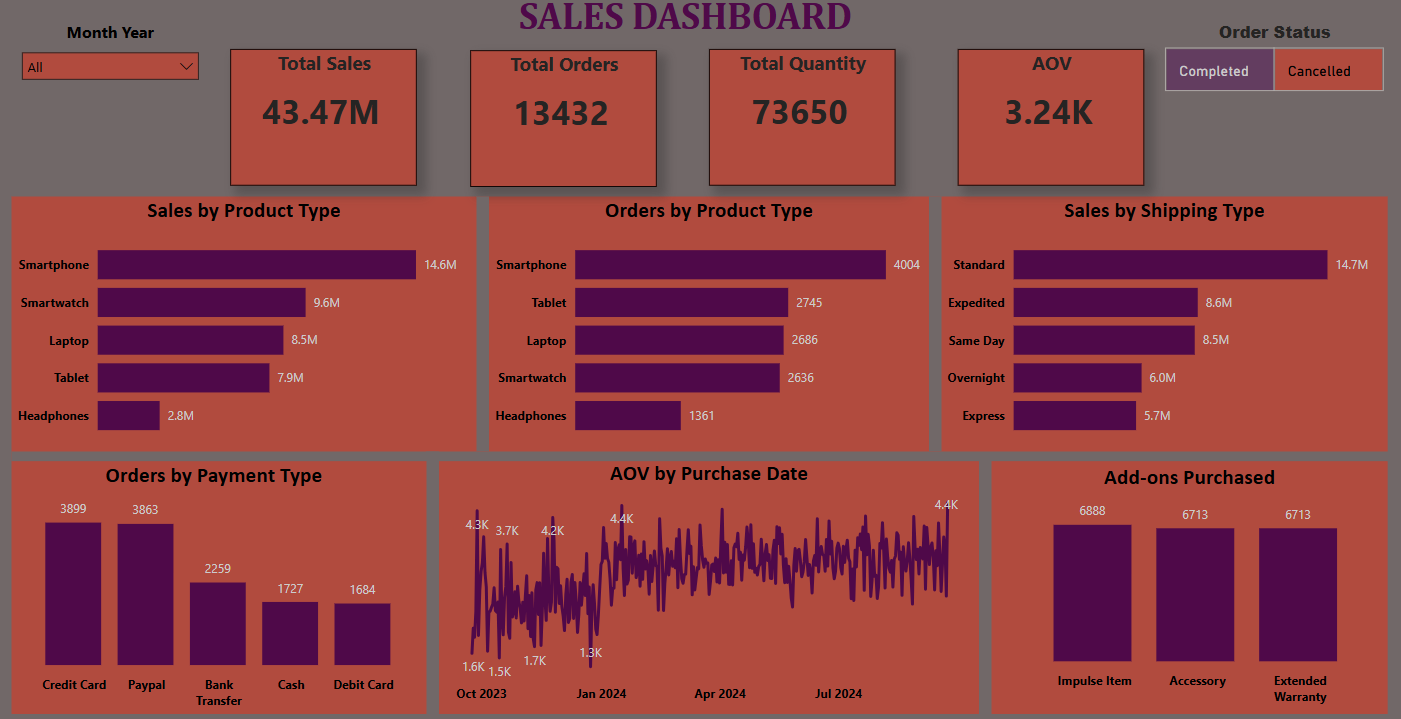

This screenshot's page, from the dashboard's own definition file:
{"tool":"powerbi","page":{"name":" Sales Dashboard","canvas":[1400,730],"ordinal":1},"visuals":[{"type":"shape","box":[12.4,206.5,1369.7,515],"z":0},{"type":"shape","box":[925.6,206.5,12.4,253.8],"z":1000},{"type":"shape","box":[425.5,460.3,12.4,263.7],"z":2000},{"type":"shape","box":[12.4,460.3,1387.1,10],"z":3000},{"type":"cardVisual","fields":{"Data":["Electronic sales cleaned data.Total Sales"]},"box":[230.1,59.7,185.4,135.6],"z":4000},{"type":"barChart","fields":{"Category":["Electronic sales cleaned data.Product Type"],"Y":["Electronic sales cleaned data.Total Sales"]},"box":[12.4,206.5,462.8,253.8],"z":5000},{"type":"columnChart","fields":{"Category":["Electronic sales cleaned data.Payment Method"],"Y":["CountNonNull(Electronic sales cleaned data.Customer ID)"]},"box":[2.5,470.2,423,253.8],"z":6000},{"type":"barChart","fields":{"Category":["Electronic sales cleaned data.Shipping Type"],"Y":["Electronic sales cleaned data.Total Sales"]},"box":[938,206.5,444.1,253.8],"z":7000},{"type":"cardVisual","fields":{"Data":["Sum(Electronic sales cleaned data.Quantity)"]},"box":[706.6,59.7,185.4,135.6],"z":8000},{"type":"cardVisual","fields":{"Data":["CountNonNull(Electronic sales cleaned data.Customer ID)"]},"box":[468.4,61,185.4,135.6],"z":9000},{"type":"cardVisual","fields":{"Data":["Electronic sales cleaned data.AOV"]},"box":[954.2,59.7,185.4,135.6],"z":10000},{"type":"clusteredBarChart","fields":{"Category":["Electronic sales cleaned data.Product Type"],"Y":["CountNonNull(Electronic sales cleaned data.Customer ID)"]},"box":[487.7,206.5,437.9,253.8],"z":11000},{"type":"columnChart","fields":{"Y":["CountNonNull(Add-ons Table.Customer ID)"],"Category":["Add-ons Table.Add-ons"]},"box":[987.8,472.7,394.4,247.6],"z":12000},{"type":"lineChart","fields":{"Y":["Electronic sales cleaned data.AOV"],"Category":["Electronic sales cleaned data.Purchase Date.Variation.Date Hierarchy.Year"]},"box":[437.9,469,537.4,251.3],"z":13000},{"type":"shape","box":[475.2,206.5,12.4,253.8],"z":14000},{"type":"shape","box":[975.3,464,12.4,258.8],"z":15000},{"type":"textbox","box":[196.6,0,972.8,59.7],"z":16000},{"type":"slicer","title":"Month Year","fields":{"Values":["Electronic sales cleaned data.MONTH YEAR"]},"box":[12.4,31.1,196.6,75.9],"z":17000},{"type":"advancedSlicerVisual","fields":{"Values":["Electronic sales cleaned data.Order Status"]},"box":[1155.7,31.1,227.7,75.9],"z":18000}]}

Visuals, with their boxes in screenshot pixels (x1, y1, x2, y2), scaled from the page's 1400x730 canvas onto the 1401x719 screenshot:
shape: 12/203/1383/711
shape: 926/203/939/453
shape: 426/453/438/713
shape: 12/453/1400/463
cardVisual - Electronic sales cleaned data.Total Sales: 230/59/416/192
barChart - Electronic sales cleaned data.Product Type x Electronic sales cleaned data.Total Sales: 12/203/476/453
columnChart - Electronic sales cleaned data.Payment Method x CountNonNull(Electronic sales cleaned data.Customer ID): 3/463/426/713
barChart - Electronic sales cleaned data.Shipping Type x Electronic sales cleaned data.Total Sales: 939/203/1383/453
cardVisual - Sum(Electronic sales cleaned data.Quantity): 707/59/893/192
cardVisual - CountNonNull(Electronic sales cleaned data.Customer ID): 469/60/654/194
cardVisual - Electronic sales cleaned data.AOV: 955/59/1140/192
clusteredBarChart - Electronic sales cleaned data.Product Type x CountNonNull(Electronic sales cleaned data.Customer ID): 488/203/926/453
columnChart - CountNonNull(Add-ons Table.Customer ID) x Add-ons Table.Add-ons: 989/466/1383/709
lineChart - Electronic sales cleaned data.AOV x Electronic sales cleaned data.Purchase Date.Variation.Date Hierarchy.Year: 438/462/976/709
shape: 476/203/488/453
shape: 976/457/988/712
textbox: 197/0/1170/59
"Month Year" slicer: 12/31/209/105
advancedSlicerVisual - Electronic sales cleaned data.Order Status: 1157/31/1384/105
